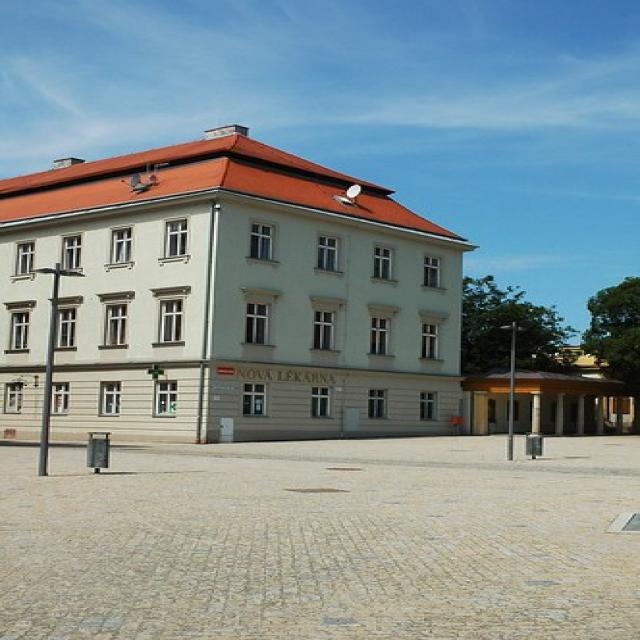building: (2, 123, 484, 445)
